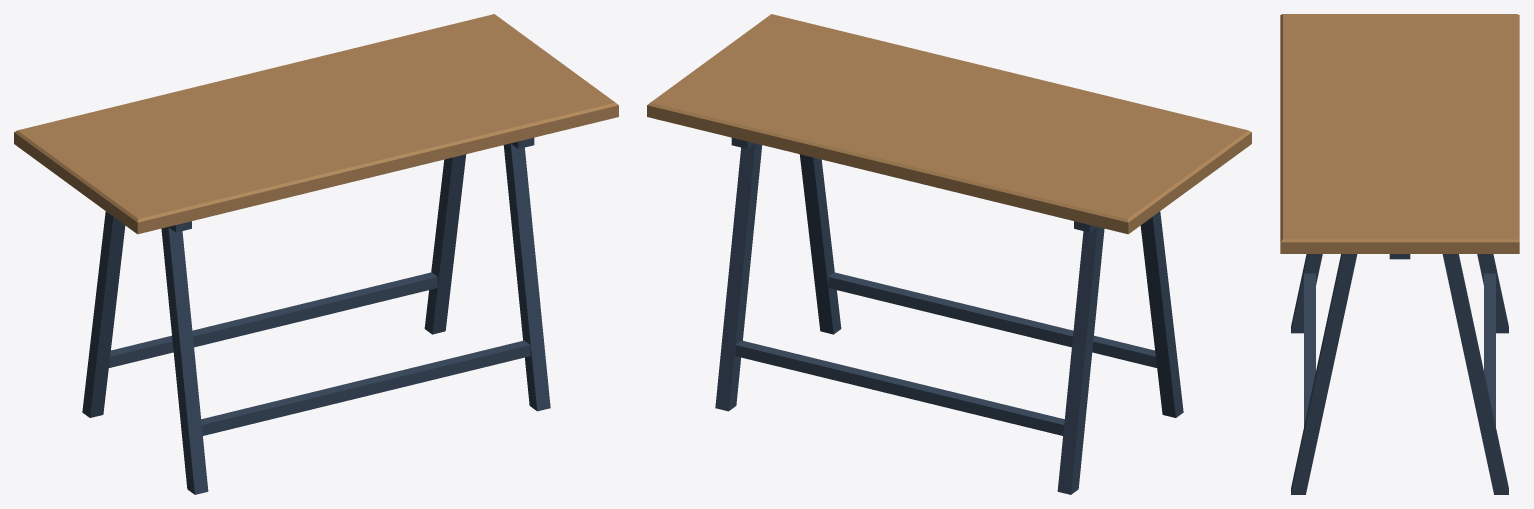
Rendered from FN_Table_Bar_Communal.obj.
3 views of the same model, side by side, from view 1: azimuth 30°, elevation 25°; view 2: azimuth 150°, elevation 25°; view 3: azimuth 270°, elevation 25° (orthographic). The views are drawn at different scales.
Visible parts, largest first — view 1: FN_Table_Bar_Communal; view 2: FN_Table_Bar_Communal; view 3: FN_Table_Bar_Communal.
Part boxes in pixels (<box>): FN_Table_Bar_Communal: <box>14,14,618,494</box>; FN_Table_Bar_Communal: <box>647,14,1251,494</box>; FN_Table_Bar_Communal: <box>1280,14,1519,494</box>.
Size of the model in its own units: 1.8 by 1.05 by 0.8.
1 material, 1 textured.
